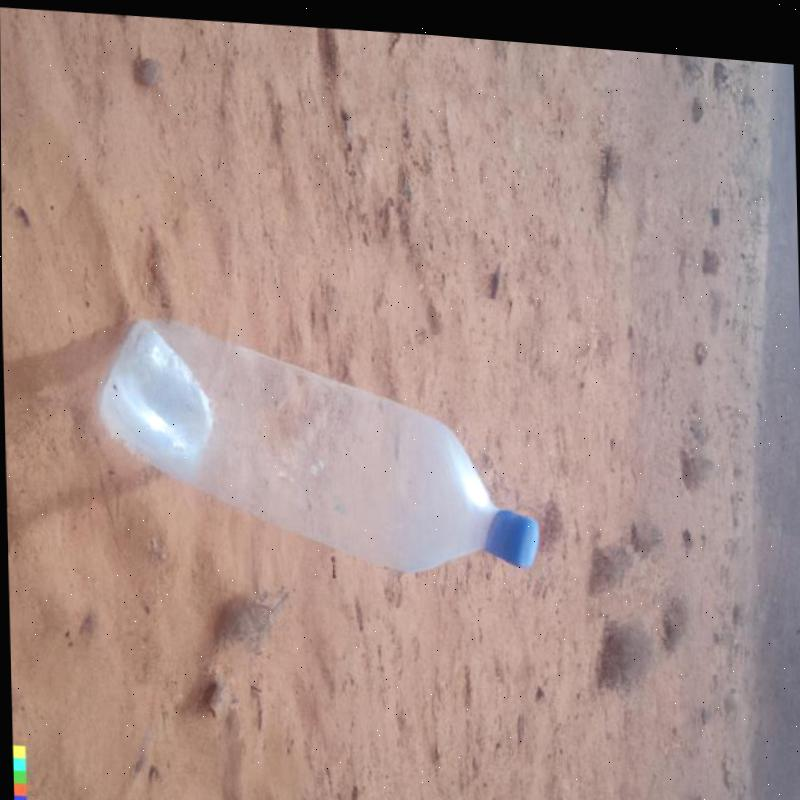botella: (100, 309, 540, 580)
